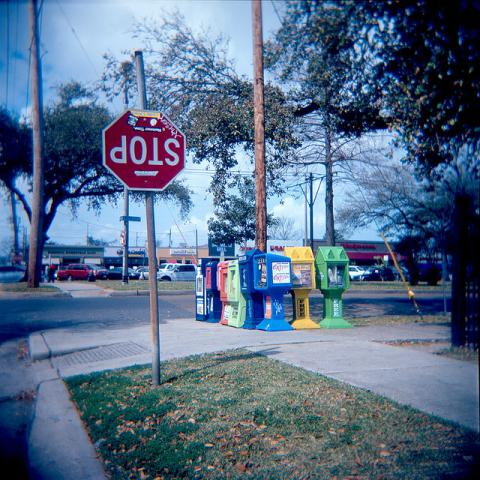car: (65, 264, 109, 283), (157, 264, 198, 282), (107, 267, 139, 279), (349, 265, 367, 281), (362, 268, 381, 282), (135, 267, 149, 281), (56, 266, 67, 280)
truck: (157, 264, 198, 282)
